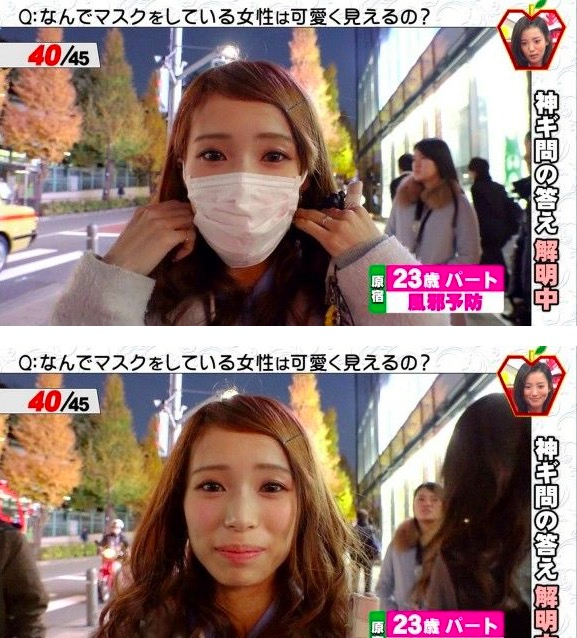mask: (187, 172, 299, 270)
